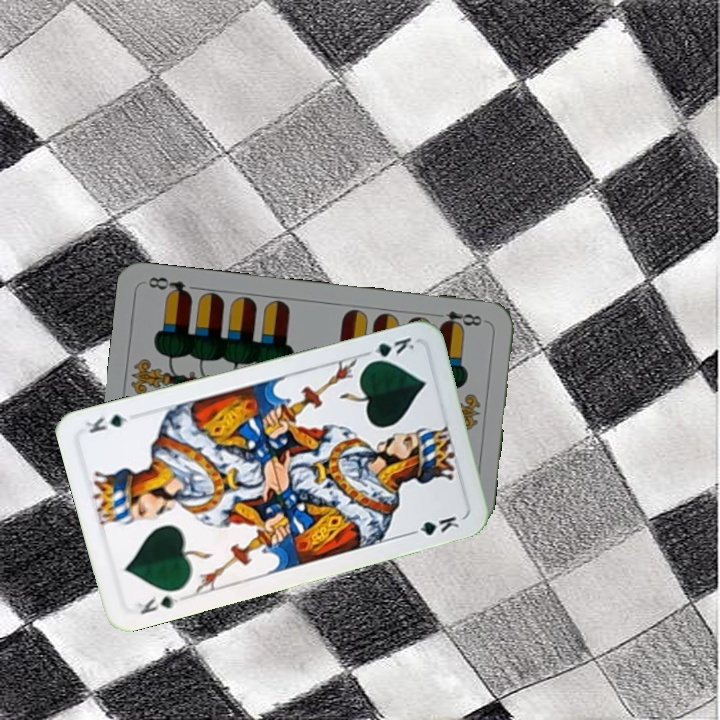E8: (430, 307, 489, 332)
GK: (360, 333, 418, 366), (129, 591, 181, 617)
